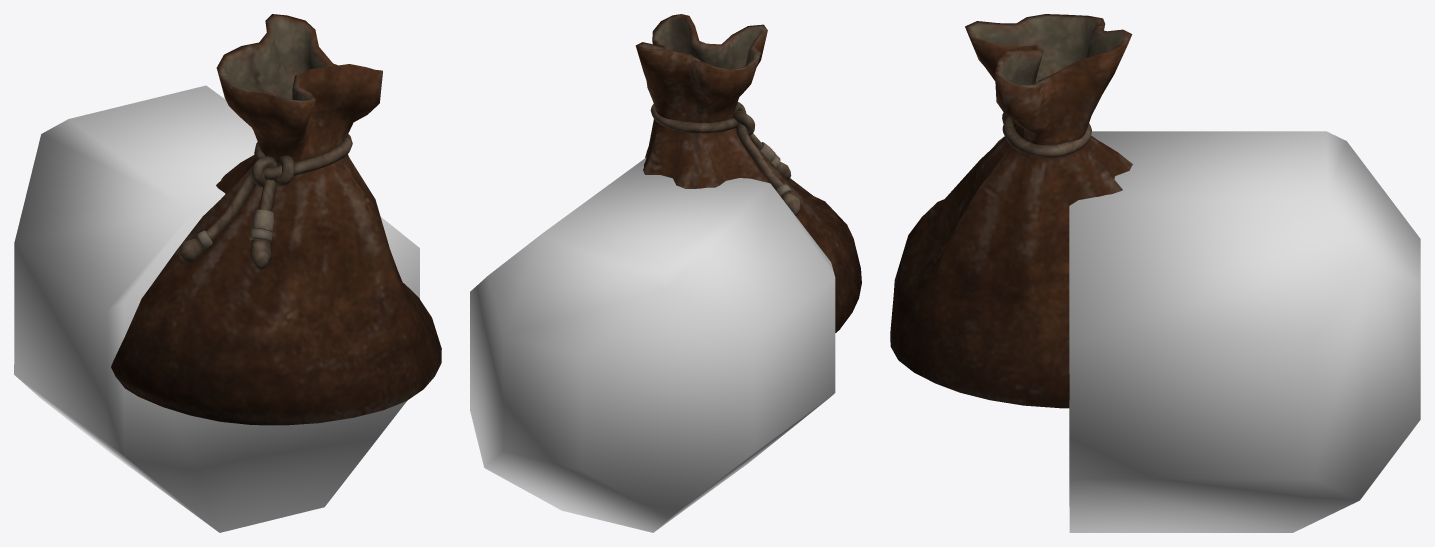
Rendered from SM_Bag_of_Coins_B.fbx.
3 views of the same model, side by side, from view 1: azimuth 30°, elevation 25°; view 2: azimuth 150°, elevation 25°; view 3: azimuth 270°, elevation 25° (orthographic). The views are drawn at different scales.
Visible parts, largest first — view 1: SM_Bag_of_Coins_B, SM_Bag_of_Coins_B_ConvexHulls; view 2: SM_Bag_of_Coins_B_ConvexHulls, SM_Bag_of_Coins_B; view 3: SM_Bag_of_Coins_B_ConvexHulls, SM_Bag_of_Coins_B.
Part boxes in pixels (x1=…): SM_Bag_of_Coins_B: x1=111, y1=14, x2=441, y2=425; SM_Bag_of_Coins_B_ConvexHulls: x1=14, y1=85, x2=419, y2=532; SM_Bag_of_Coins_B_ConvexHulls: x1=470, y1=157, x2=835, y2=532; SM_Bag_of_Coins_B: x1=635, y1=14, x2=861, y2=332; SM_Bag_of_Coins_B_ConvexHulls: x1=1069, y1=131, x2=1420, y2=532; SM_Bag_of_Coins_B: x1=890, y1=14, x2=1132, y2=408.
Size of the model in its own units: 0.3063 by 0.4542 by 0.4473.
